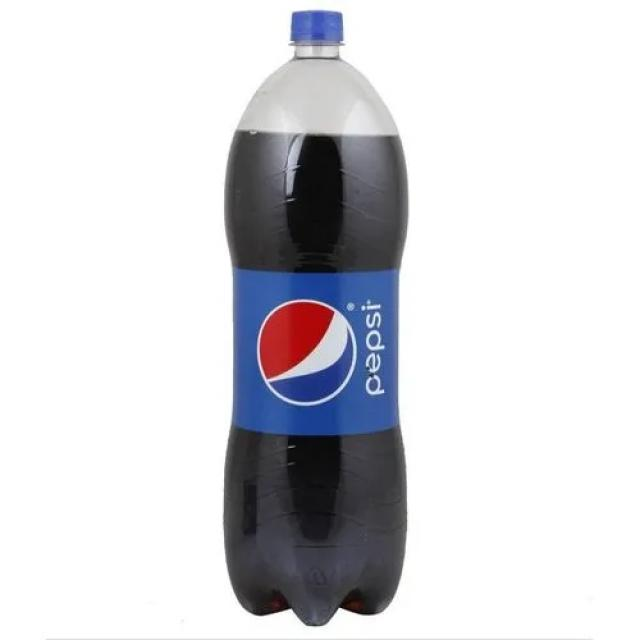Soda: (223, 10, 411, 630)
